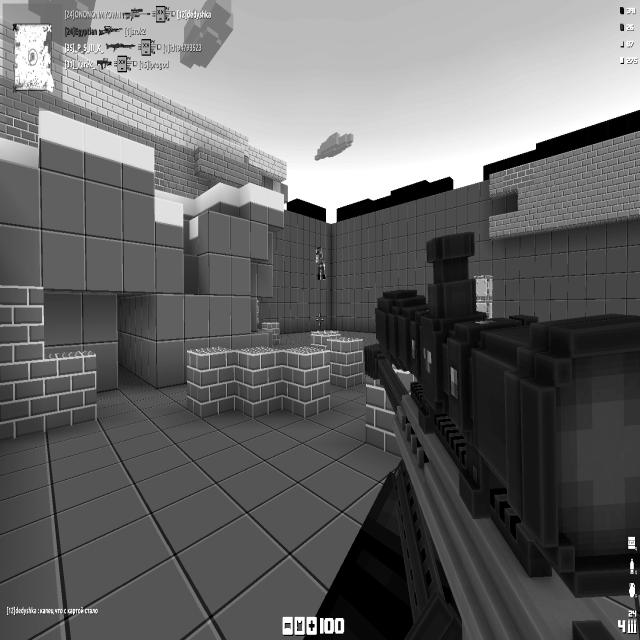Head: (315, 246, 323, 255)
Player: (314, 245, 326, 280)
